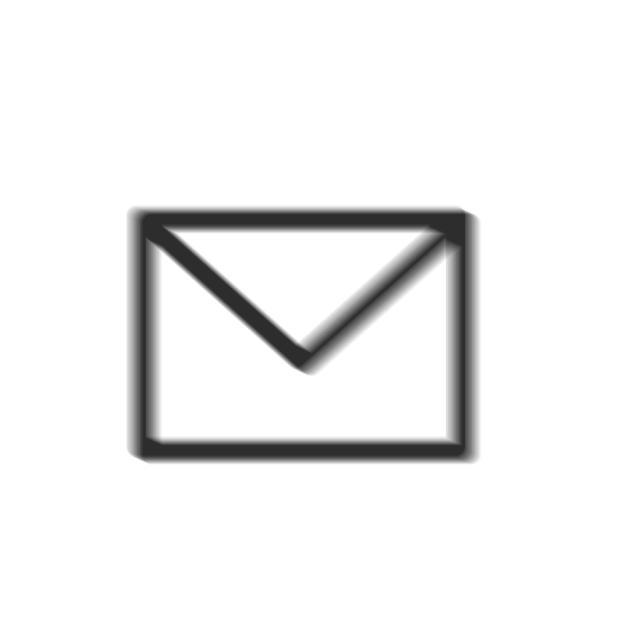letter: (120, 203, 484, 471)
